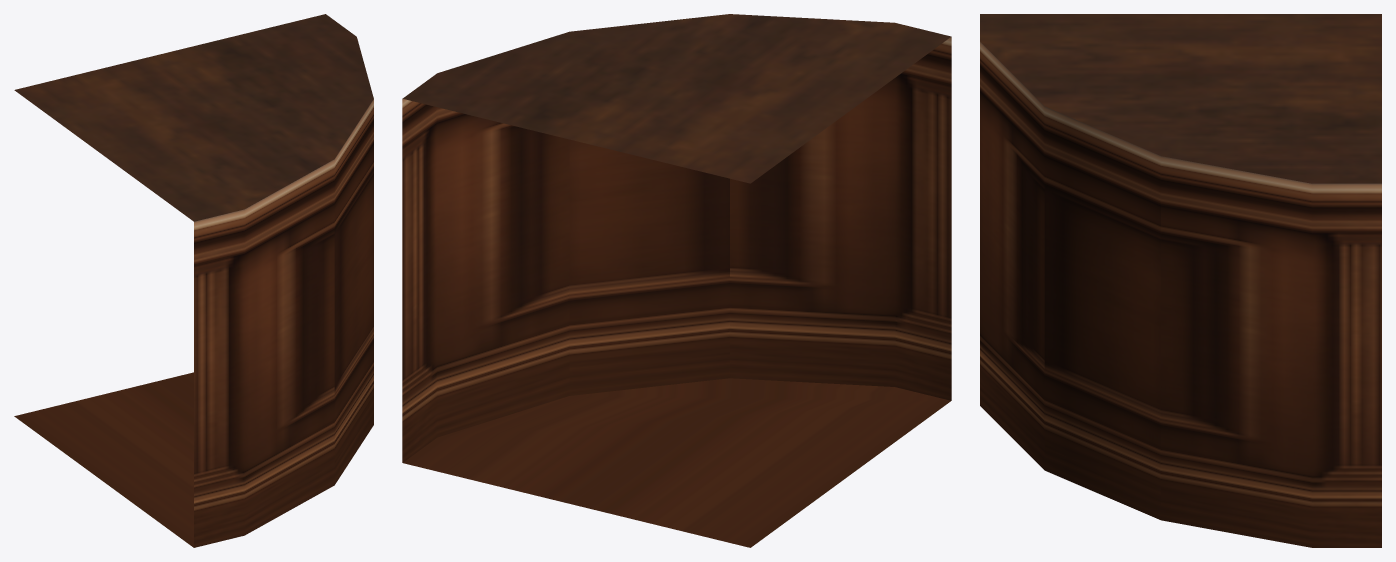
The model's file is bar_corner.fbx.
3 views of the same model, side by side, from view 1: azimuth 30°, elevation 25°; view 2: azimuth 150°, elevation 25°; view 3: azimuth 270°, elevation 25° (orthographic). The views are drawn at different scales.
Parts seen in each view (by area): view 1: bar_corner; view 2: bar_corner; view 3: bar_corner.
Part boxes in pixels (<box>): bar_corner: <box>14,14,373,547</box>; bar_corner: <box>402,14,951,547</box>; bar_corner: <box>980,14,1381,547</box>.
Bounding box in the file's own units: 100 × 100 × 100.
